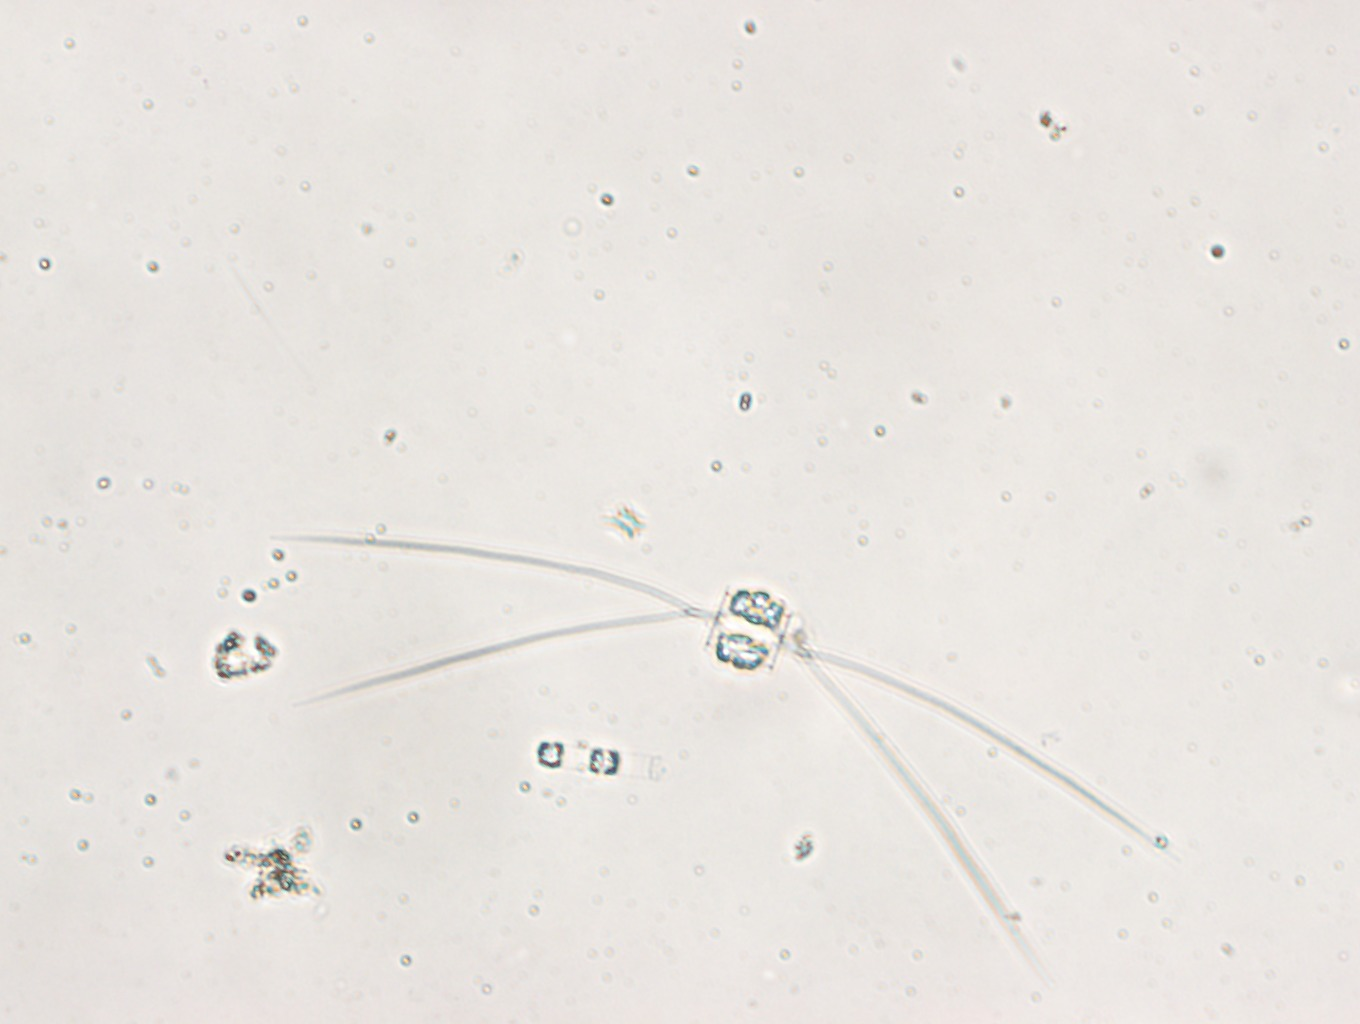chaetoceros: (261, 532, 1182, 958)
